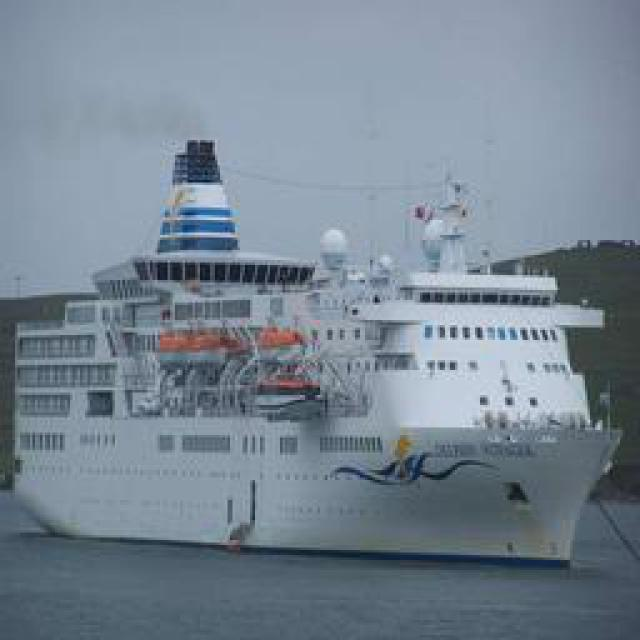Ship: (15, 117, 620, 567)
